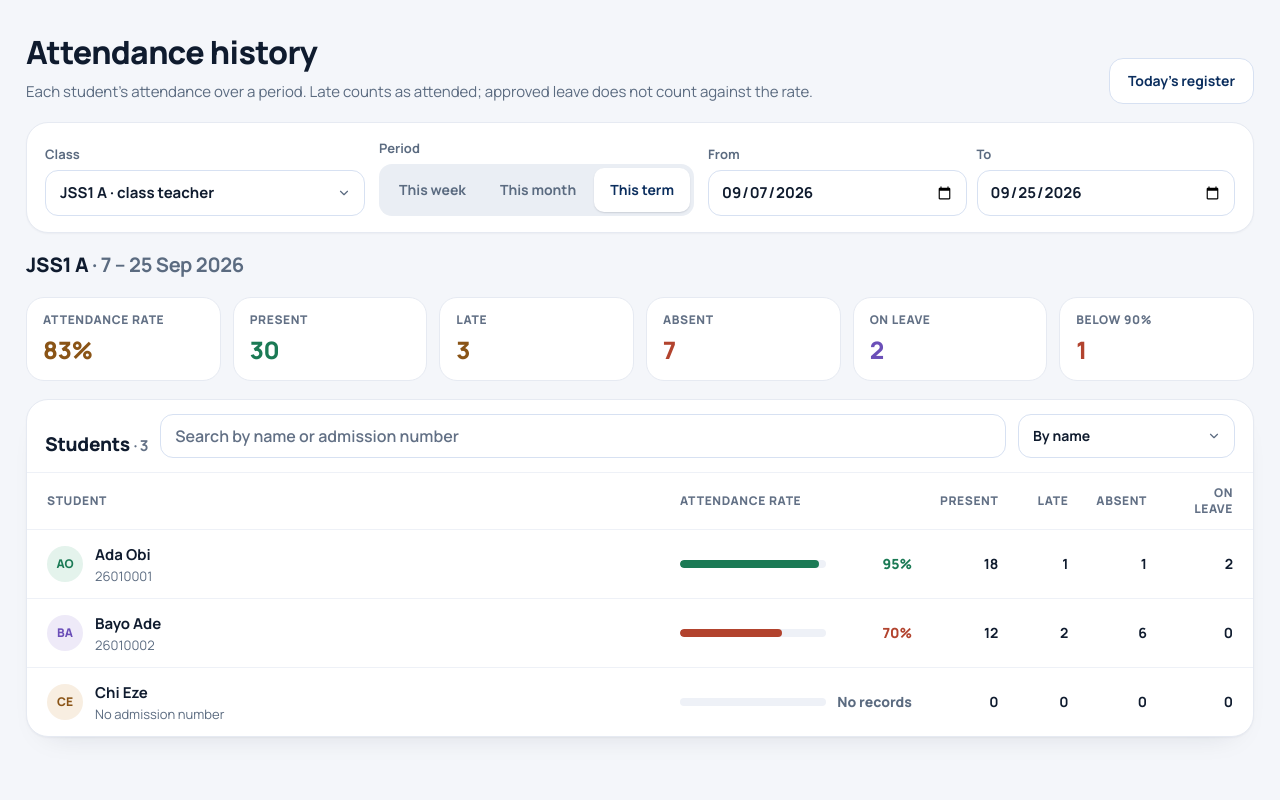
Test: AttendanceHistoryScreen › switches to this week, keeps the dates in the address, and reloads for them
The width and height of the screenshot is (1280, 800).
Check: the table is shown, box [27,473,1253,736]
Click the button "This week".
click(432, 190)  # box [383,168,482,212]
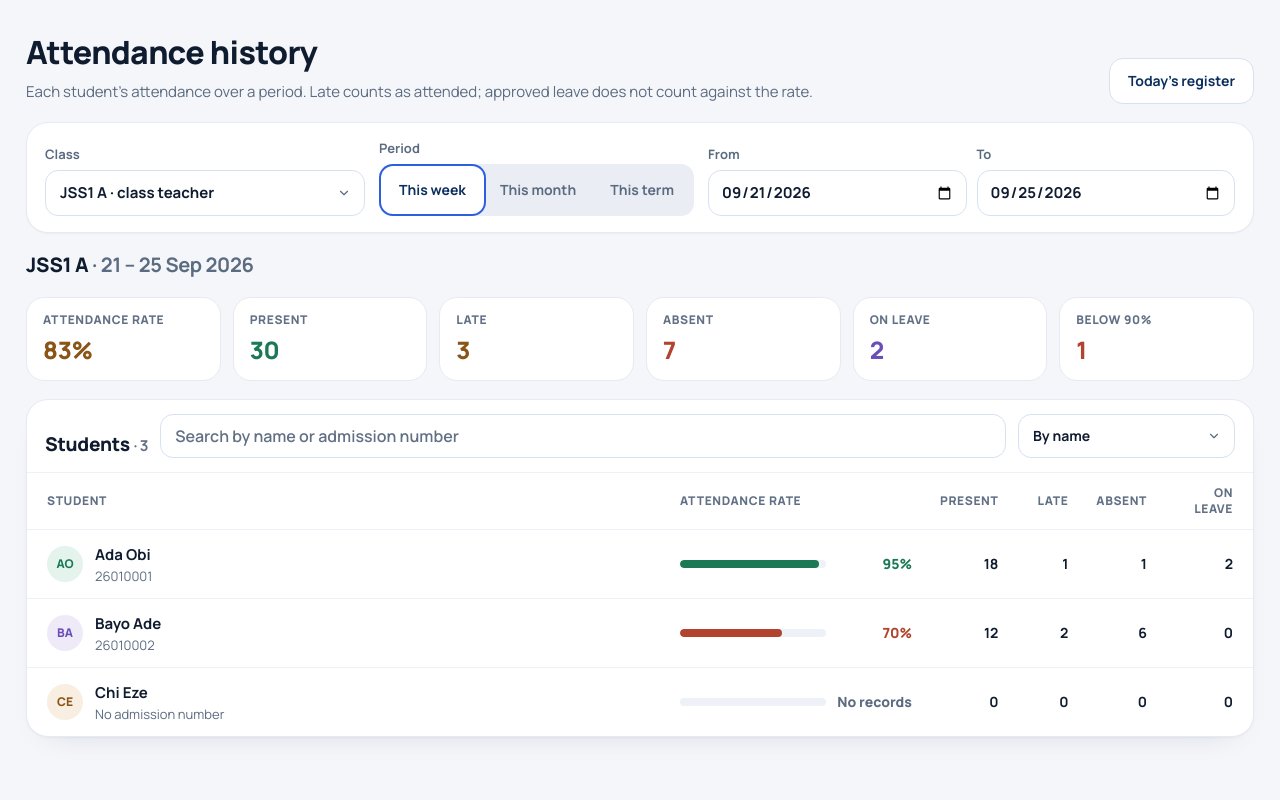
Check: the date field labelled "To" holds "2026-09-25", box [976,170,1235,216]
Check: the date field labelled "From" holds "2026-09-21", box [708,170,966,216]
